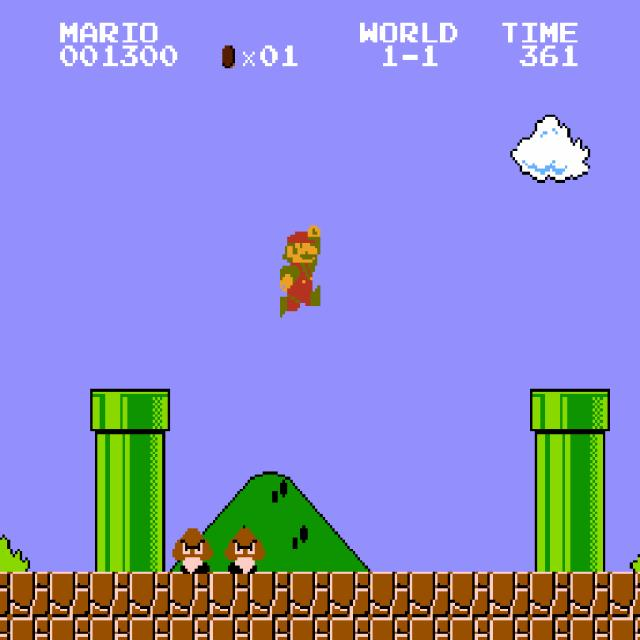big_mario: (277, 223, 320, 317)
goomba: (170, 526, 213, 574), (222, 526, 265, 574)
pipe: (90, 434, 130, 480), (90, 480, 130, 526), (130, 434, 170, 480), (130, 480, 170, 526), (530, 434, 570, 480), (530, 480, 570, 526), (570, 434, 610, 480), (570, 480, 610, 526), (90, 526, 130, 571), (130, 526, 170, 571), (530, 526, 570, 571), (570, 526, 610, 571)
pipe_head: (90, 389, 130, 434), (130, 389, 170, 434), (530, 389, 570, 434), (570, 389, 610, 434)
undestructible_block: (10, 572, 50, 617), (50, 572, 90, 617), (90, 572, 130, 617), (130, 572, 170, 617), (170, 572, 210, 617), (210, 572, 250, 617), (250, 572, 290, 617), (290, 572, 330, 617), (330, 572, 370, 617), (370, 572, 410, 617), (410, 572, 450, 617), (450, 572, 490, 617), (490, 572, 530, 617), (530, 572, 570, 617), (570, 572, 610, 617), (610, 572, 640, 617), (10, 617, 50, 640), (50, 617, 90, 640), (90, 617, 130, 640), (130, 617, 170, 640), (170, 617, 210, 640), (210, 617, 250, 640), (250, 617, 290, 640), (290, 617, 330, 640), (330, 617, 370, 640), (370, 617, 410, 640), (410, 617, 450, 640), (450, 617, 490, 640), (490, 617, 530, 640), (530, 617, 570, 640), (570, 617, 610, 640), (610, 617, 640, 640), (0, 571, 10, 617), (0, 617, 10, 639)
